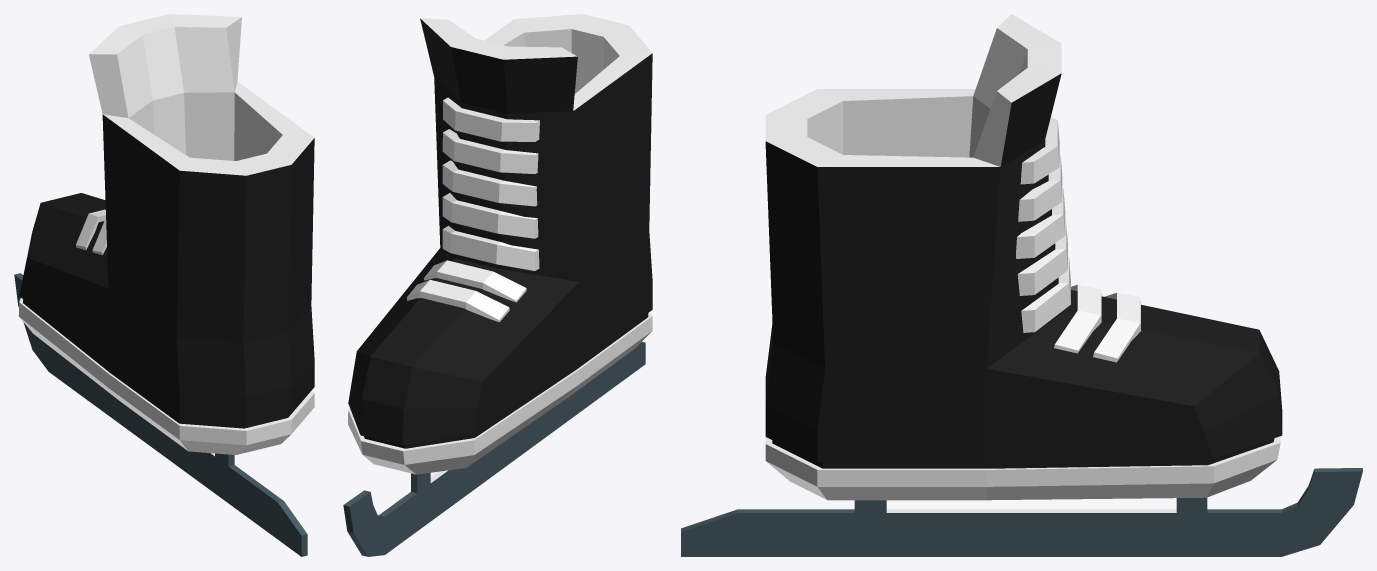
The model's file is Ice_Skates_01.obj.
3 renders of one model, left to right at view 1: azimuth 30°, elevation 25°; view 2: azimuth 150°, elevation 25°; view 3: azimuth 270°, elevation 25°, orthographic. The views are drawn at different scales.
Parts seen in each view (by area): view 1: Ice_Skate_Cube; view 2: Ice_Skate_Cube; view 3: Ice_Skate_Cube.
Part boxes in pixels (<box>): Ice_Skate_Cube: <box>14,14,314,556</box>; Ice_Skate_Cube: <box>343,14,652,556</box>; Ice_Skate_Cube: <box>681,14,1362,556</box>.
Size of the model in its own units: 3.17 by 8.28 by 10.3.
